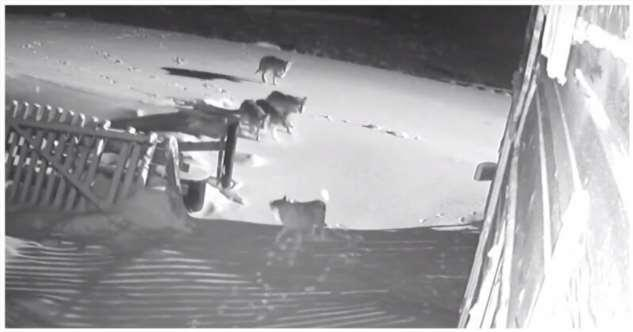normal_dogs: (270, 194, 328, 246), (264, 89, 307, 125), (235, 99, 269, 143), (255, 54, 291, 86)
